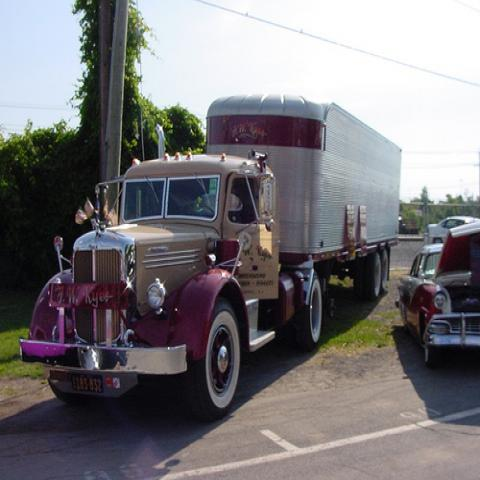car: (394, 243, 479, 340), (428, 215, 479, 245)
truck: (21, 91, 403, 421)
